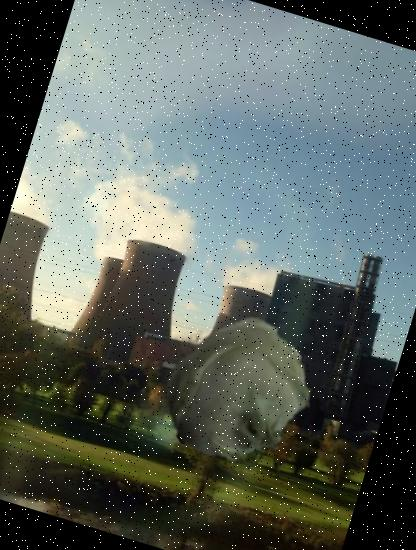Kohlrabi: (146, 304, 332, 489)
